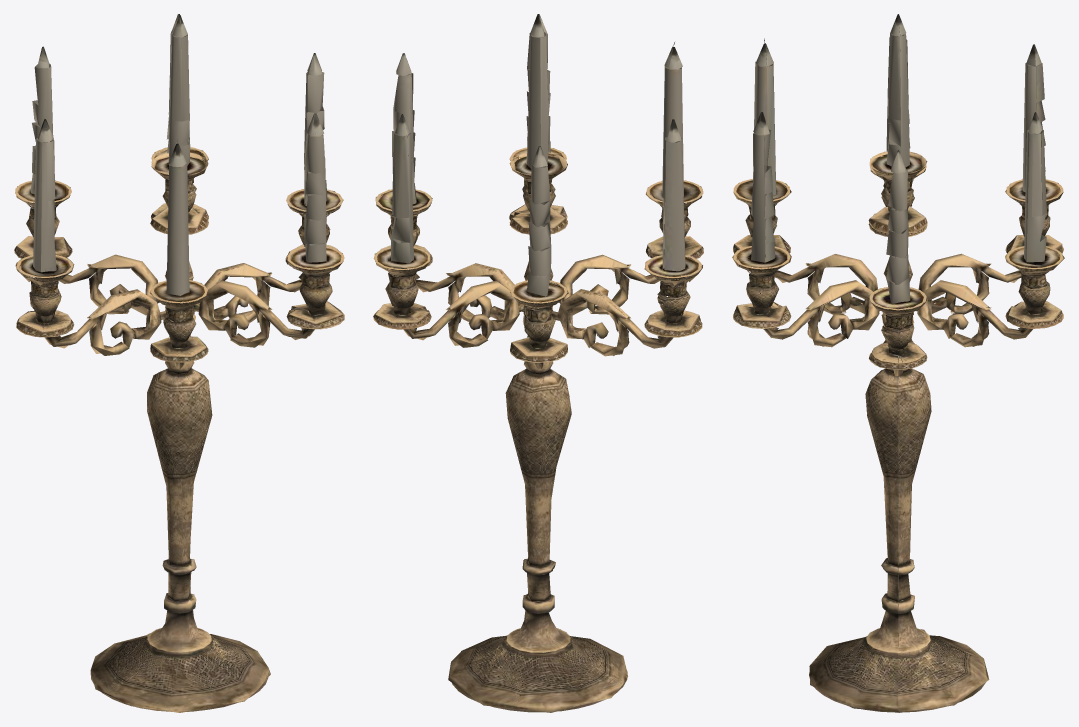
Rendered from candelabrum.glb.
3 views of the same model, side by side, from view 1: azimuth 30°, elevation 25°; view 2: azimuth 150°, elevation 25°; view 3: azimuth 270°, elevation 25° (orthographic).
Parts seen in each view (by area): view 1: brass_candleholder_03; view 2: brass_candleholder_03; view 3: brass_candleholder_03.
Boxes of the visible parts, left/top/right/bottom form: brass_candleholder_03: left=14, top=14, right=344, bottom=712; brass_candleholder_03: left=373, top=14, right=703, bottom=712; brass_candleholder_03: left=732, top=14, right=1064, bottom=712.
Bounding box in the file's own units: 0.4083 × 0.8027 × 0.3666.
1 material, 1 textured.
